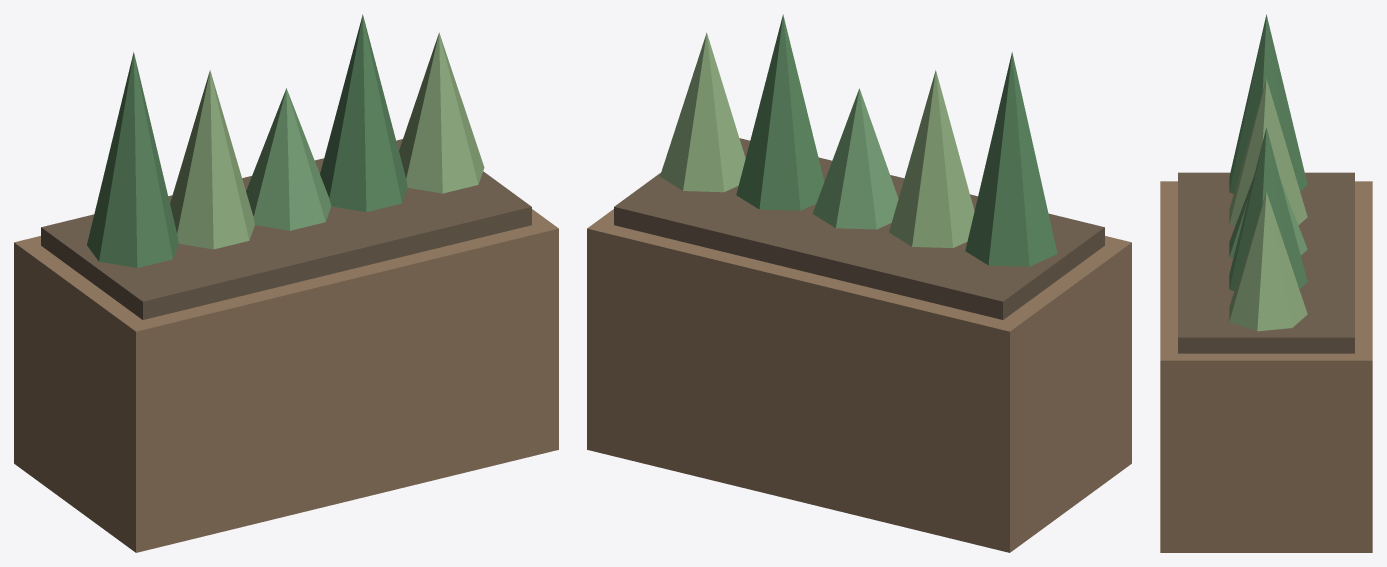
File: pla_temperos2.glb
3 views of the same model, side by side, from view 1: azimuth 30°, elevation 25°; view 2: azimuth 150°, elevation 25°; view 3: azimuth 270°, elevation 25° (orthographic). The views are drawn at different scales.
Visible parts, largest first — view 1: PLA_TEMPEROS2_v01; view 2: PLA_TEMPEROS2_v01; view 3: PLA_TEMPEROS2_v01.
Boxes of the visible parts, x1,y1,x2,y2 form: PLA_TEMPEROS2_v01: [14, 14, 558, 552]; PLA_TEMPEROS2_v01: [587, 14, 1131, 552]; PLA_TEMPEROS2_v01: [1160, 14, 1372, 552].
Size of the model in its own units: 0.36 by 0.36 by 0.18.
